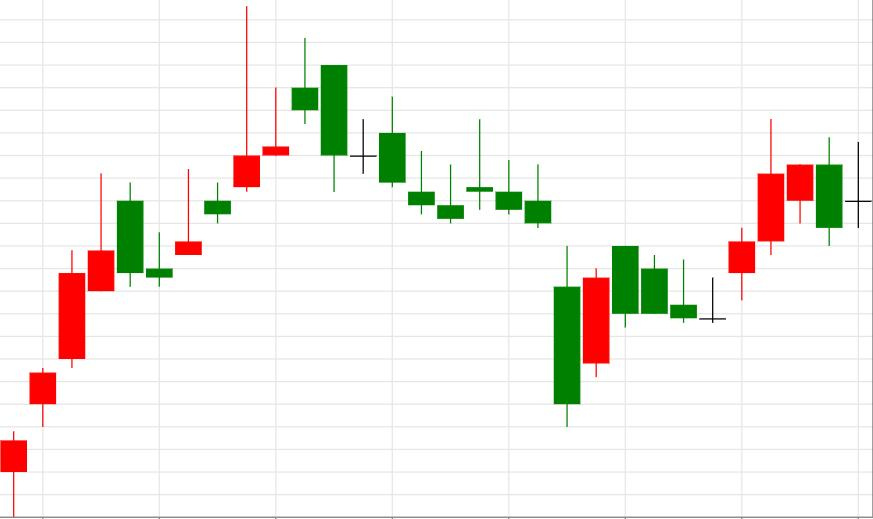shooting_star_fall: (146, 7, 260, 287)
